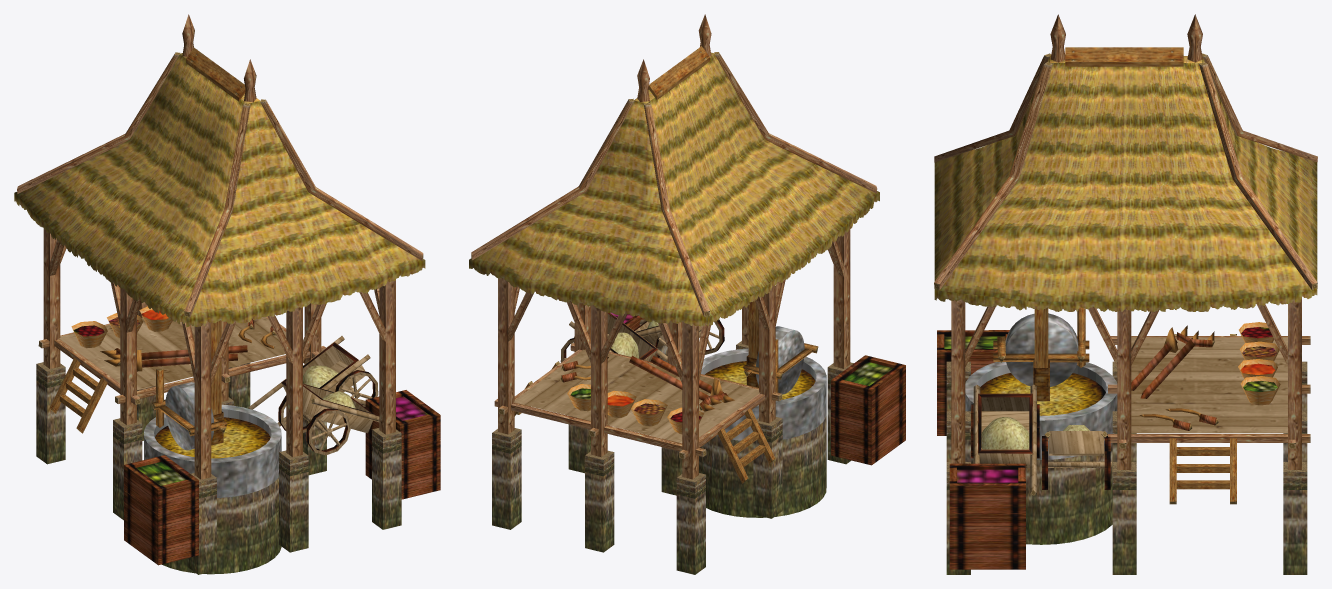
File: farmstead.dae
3 views of the same model, side by side, from view 1: azimuth 30°, elevation 25°; view 2: azimuth 150°, elevation 25°; view 3: azimuth 270°, elevation 25° (orthographic). The views are drawn at different scales.
Visible parts, largest first — view 1: farmstead; view 2: farmstead; view 3: farmstead.
Boxes of the visible parts, box(x1,y1,x2,y2) form: farmstead: box(14, 14, 440, 574); farmstead: box(469, 14, 905, 574); farmstead: box(934, 14, 1317, 574).
Bounding box in the file's own units: 11.86 × 12.3 × 18.49.
